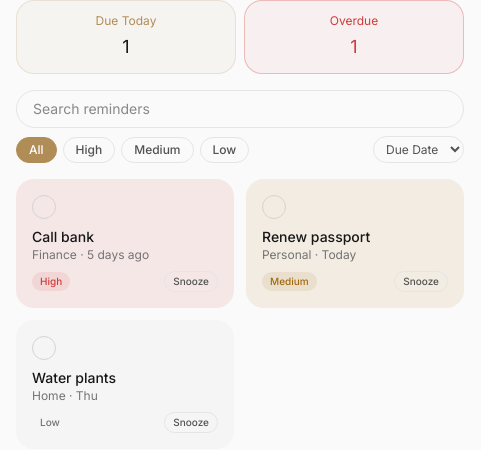
Test: RemindersListView › filters rows by priority chip
Click the button with test id "reminders-filter-high" at x=89, y=150, box left=63, top=136, right=115, bottom=162
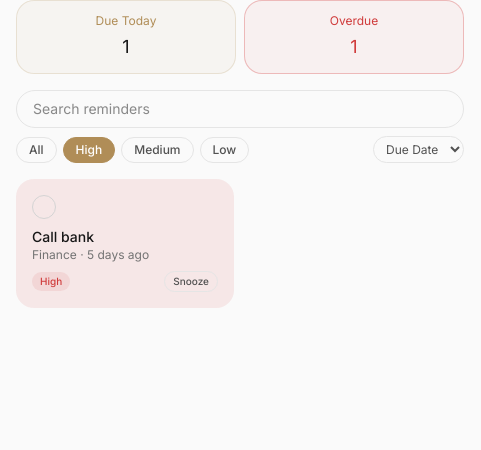
Expected: the number of elements with test id "reminder-row" is 1, left=16, top=179, right=234, bottom=308
